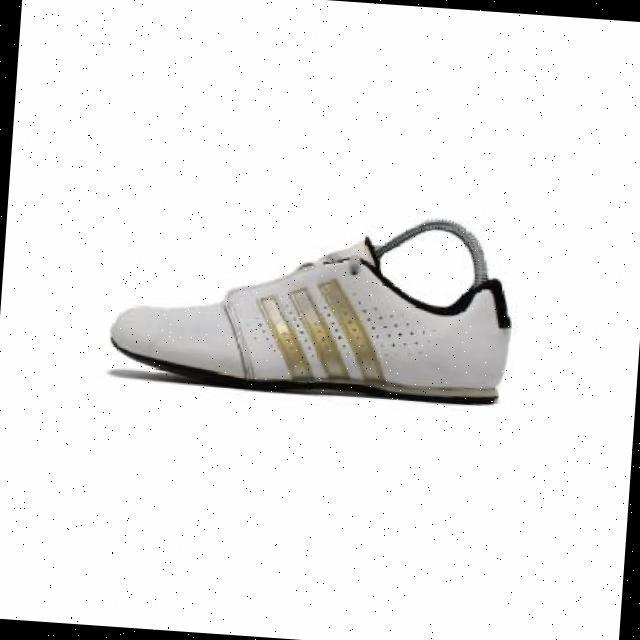Adidas: (249, 264, 391, 404)
